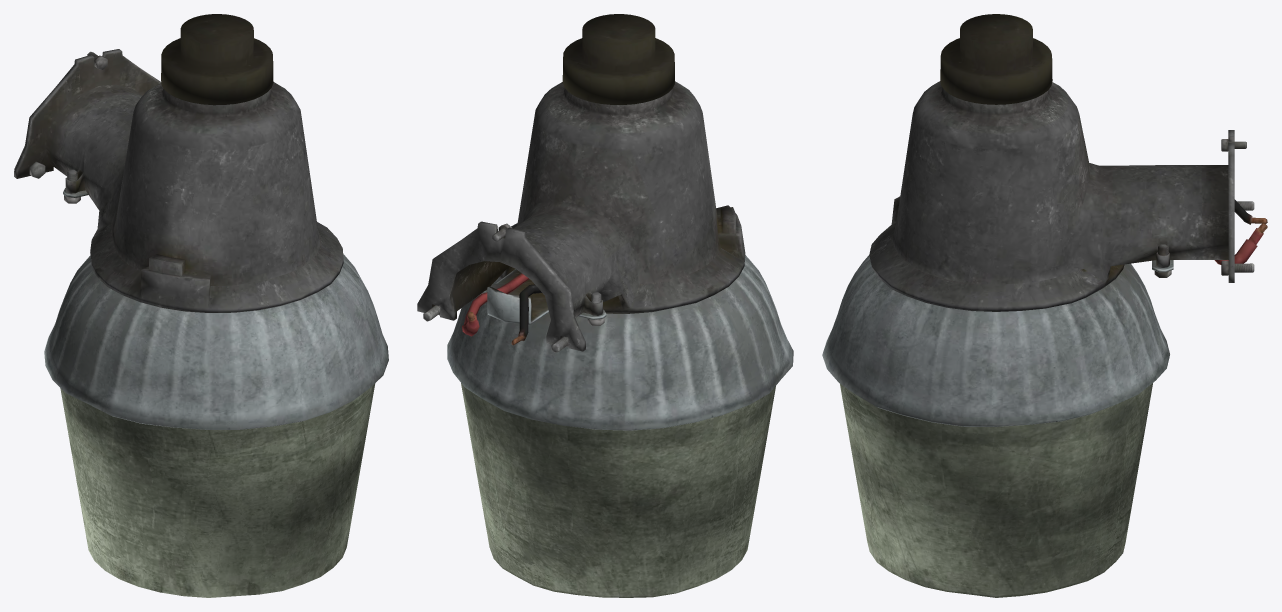
The model's file is security_light.glb.
The picture shows the model from 3 angles, left to right: view 1: azimuth 30°, elevation 25°; view 2: azimuth 150°, elevation 25°; view 3: azimuth 270°, elevation 25°; orthographic projection.
Parts seen in each view (by area): view 1: security_light, security_light_glass; view 2: security_light, security_light_glass; view 3: security_light, security_light_glass.
Part boxes in pixels (left/top/right/bottom): security_light: left=14, top=14, right=388, bottom=429; security_light_glass: left=60, top=383, right=375, bottom=597; security_light: left=417, top=14, right=793, bottom=430; security_light_glass: left=461, top=383, right=775, bottom=597; security_light: left=822, top=14, right=1267, bottom=426; security_light_glass: left=840, top=383, right=1152, bottom=597.
Size of the model in its own units: 0.3232 by 0.531 by 0.4172.
Materials: 2 (2 with a texture image).
